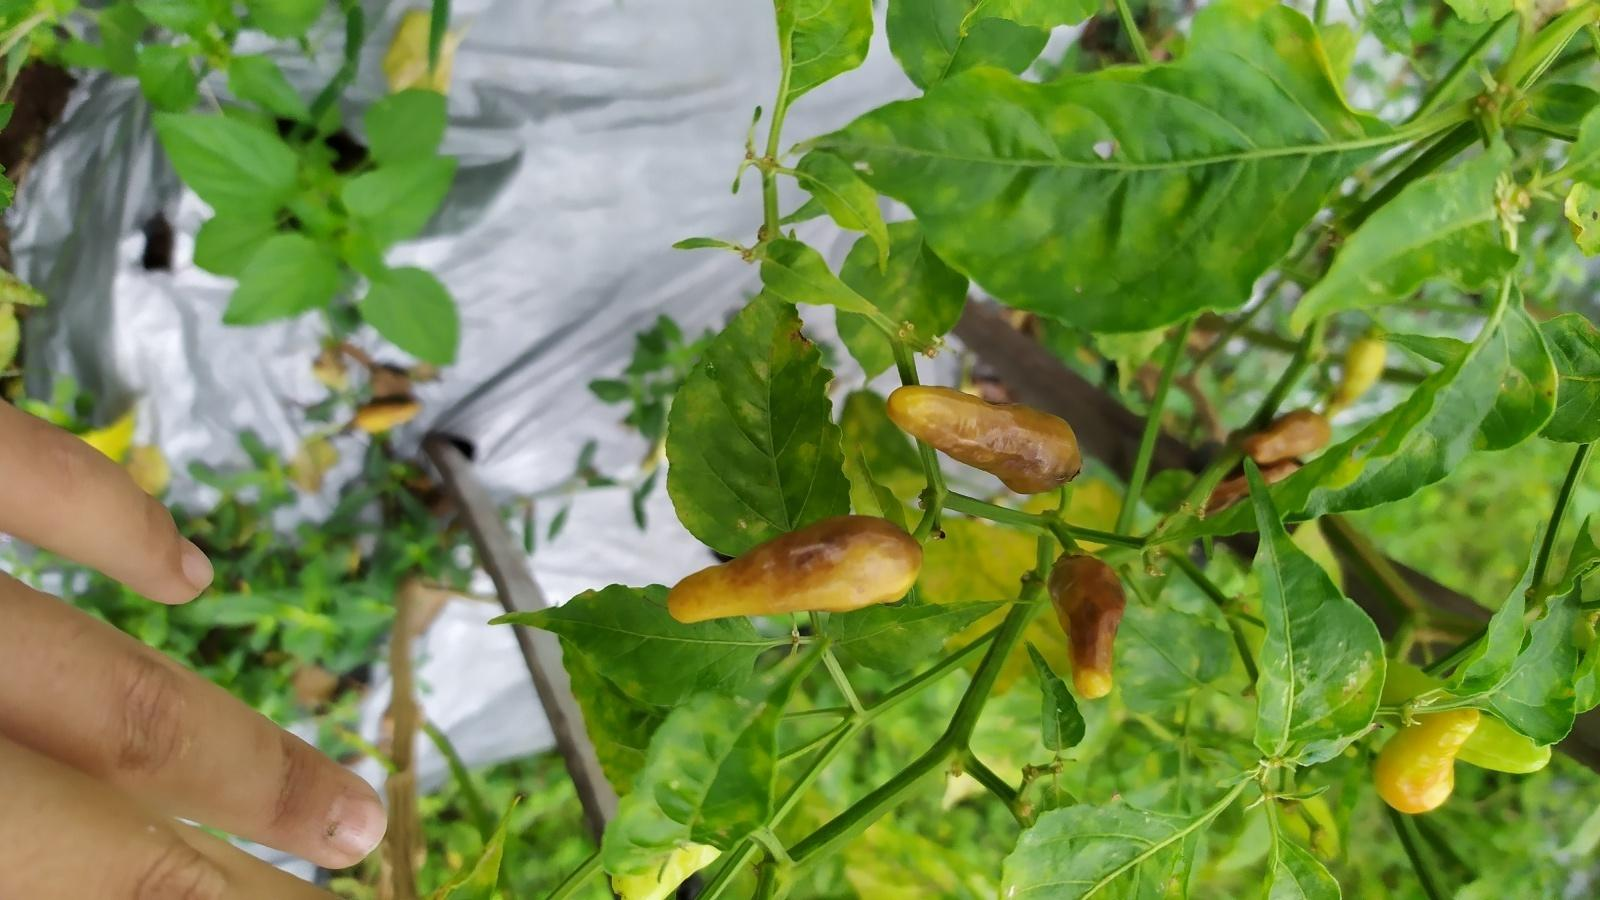cabai_normal: (1376, 709, 1478, 815)
lalat_buah: (667, 516, 924, 624), (886, 384, 1082, 496), (1046, 554, 1126, 699)
